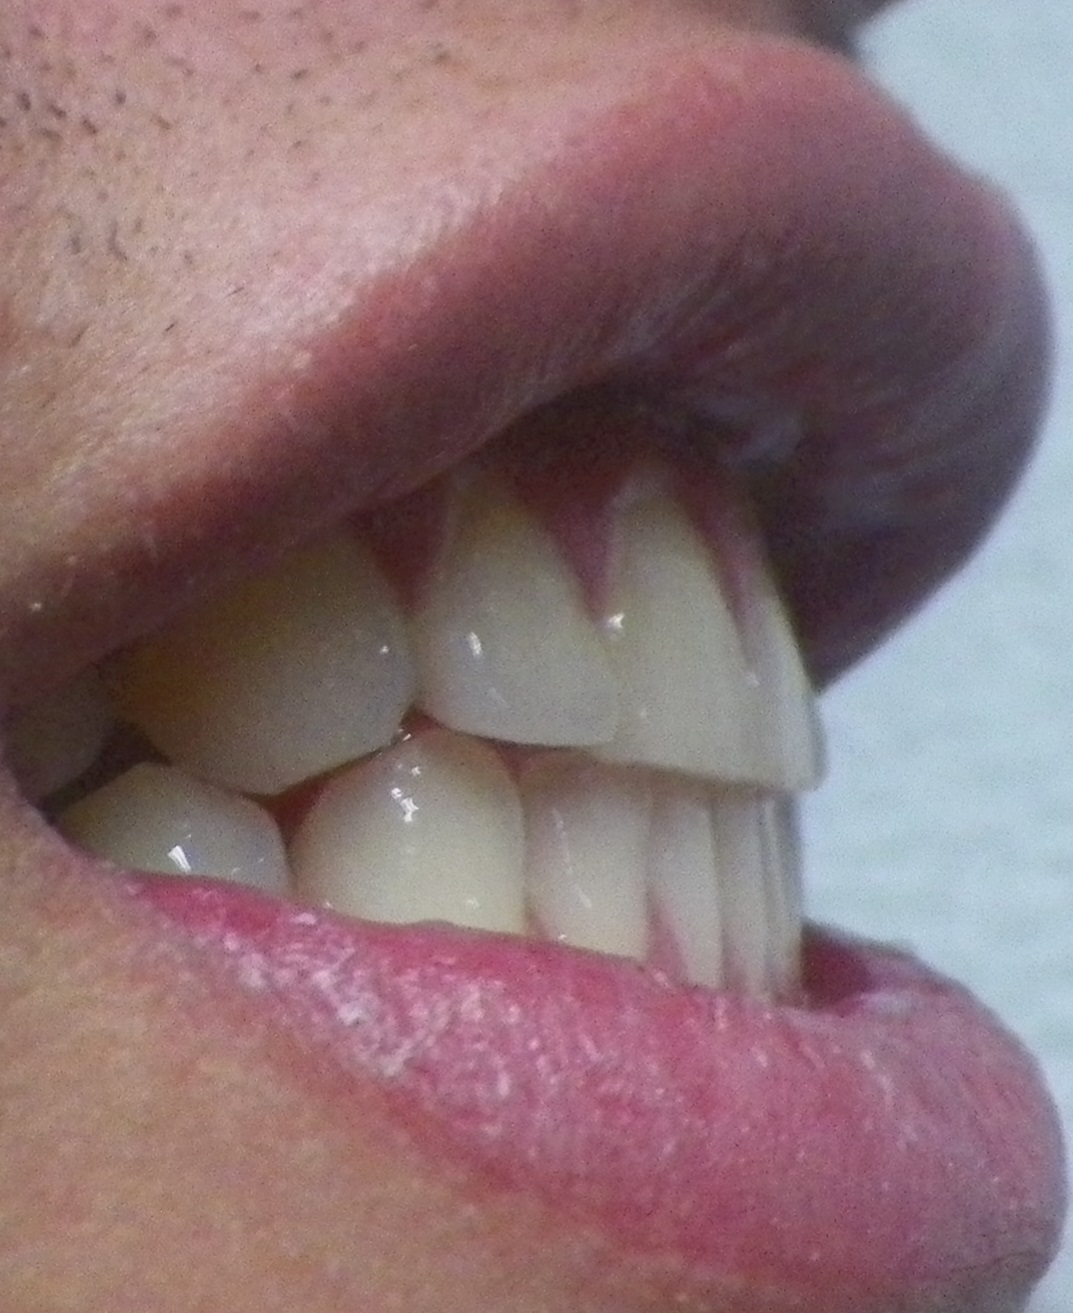boca: (31, 480, 836, 968)
